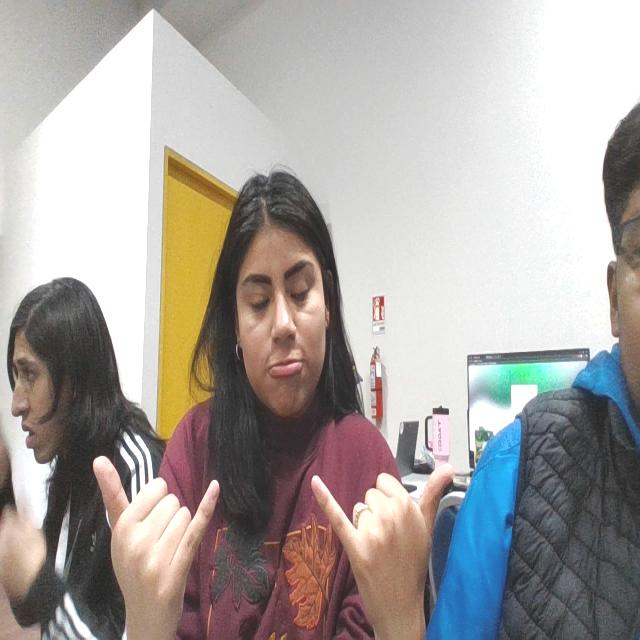now: (83, 440, 458, 640)
